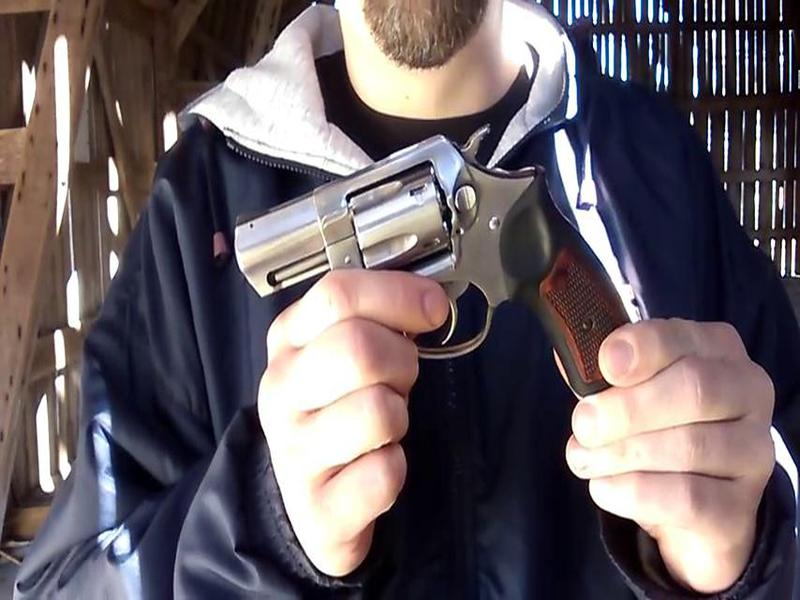Revolver: (226, 123, 635, 396)
